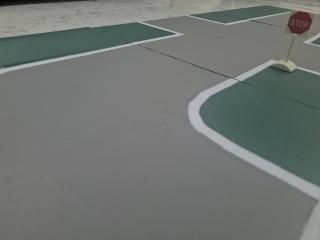stop: (281, 3, 315, 43)
